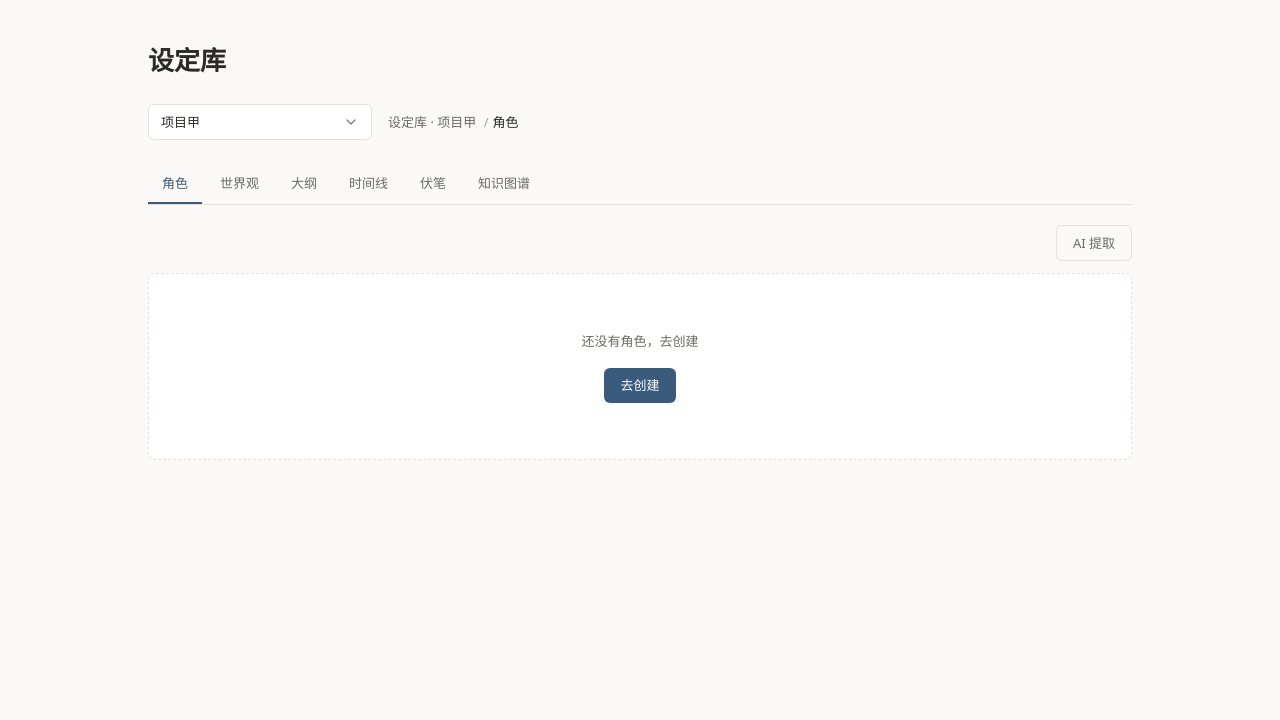
Test case: #1325 知识图谱连线与拖拽（specs/f48-knowledge-graph/spec.md §5.2/§5.4） › B Handle：每个自定义节点渲染 source/target 两个连接锚点
This screenshot has width=1280, height=720.
Click the tab "知识图谱" at (504,184), box [464,164,544,204]
(page scrolled)
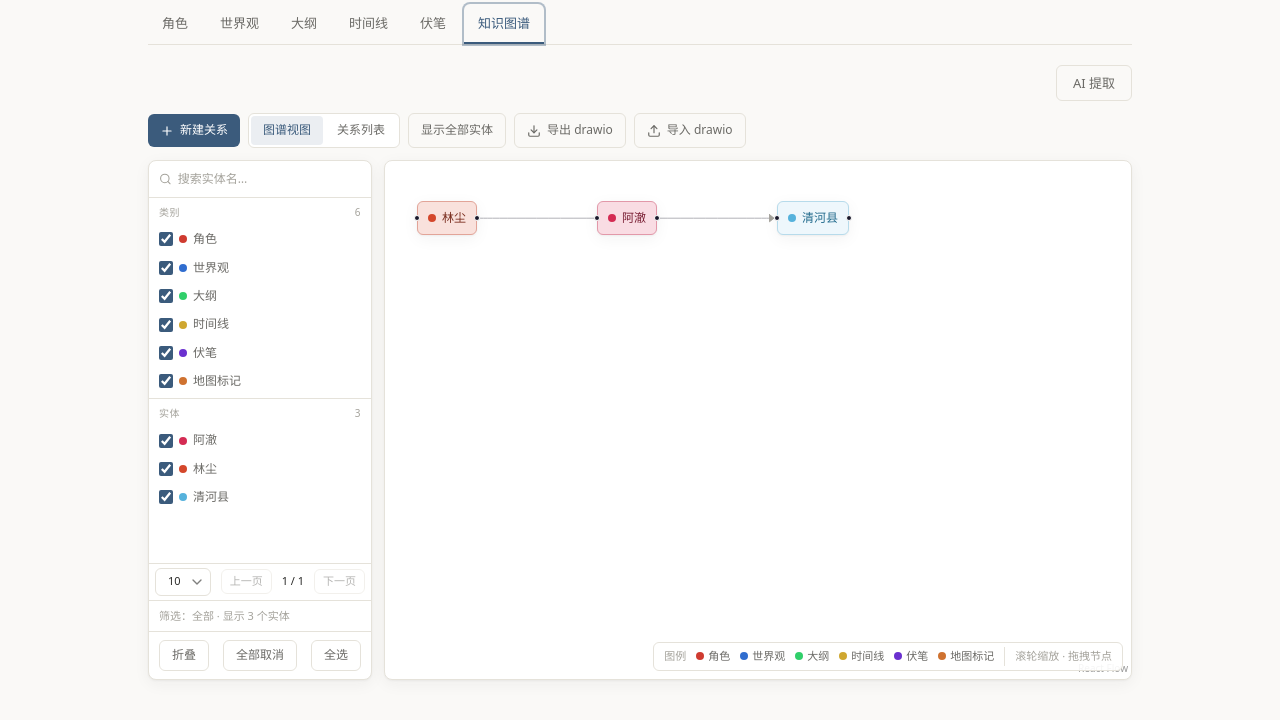
Expected: the element with test id "library-kg-canvas" is shown, [384,160,1132,680]
Expected: the element with test id "library-kg-canvas" shows "林尘", [442,209,466,226]
Expected: the number of elements with class "kg-handle" is 6, [414,215,420,221]; [474,215,480,221]; [594,215,600,221]; [654,215,660,221]; [774,215,780,221]; [846,215,852,221]
